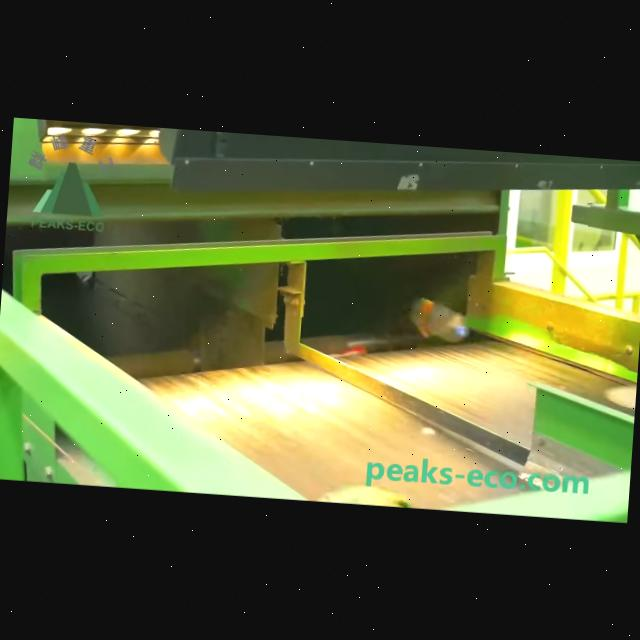trash: (404, 293, 470, 341)
